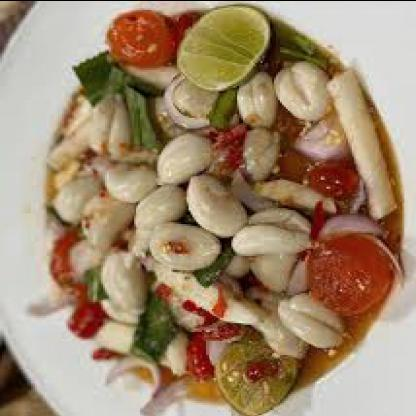Yum: (27, 7, 408, 409)
